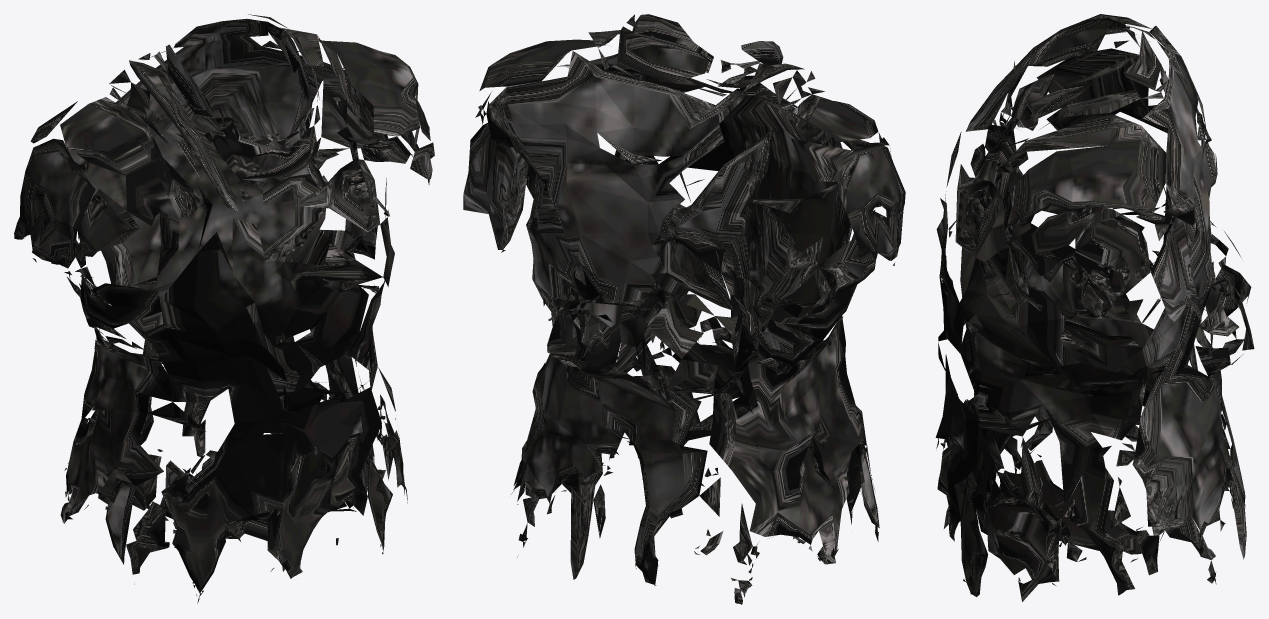
Rendered from undead-husk-armor-pixelated.glb.
The picture shows the model from 3 angles, left to right: view 1: azimuth 30°, elevation 25°; view 2: azimuth 150°, elevation 25°; view 3: azimuth 270°, elevation 25°; orthographic projection. The views are drawn at different scales.
Visible parts, largest first — view 1: mesh; view 2: mesh; view 3: mesh.
Boxes of the visible parts, x1,y1,x2,y2 form: mesh: [14, 14, 434, 603]; mesh: [463, 14, 905, 604]; mesh: [935, 14, 1254, 601].
Size of the model in its own units: 1.59 by 1.96 by 1.1.
1 material, 1 textured.
